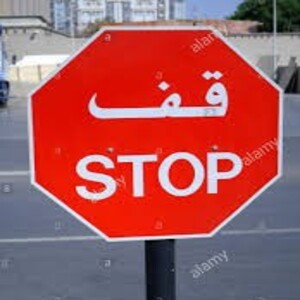stop: (28, 27, 283, 239)
